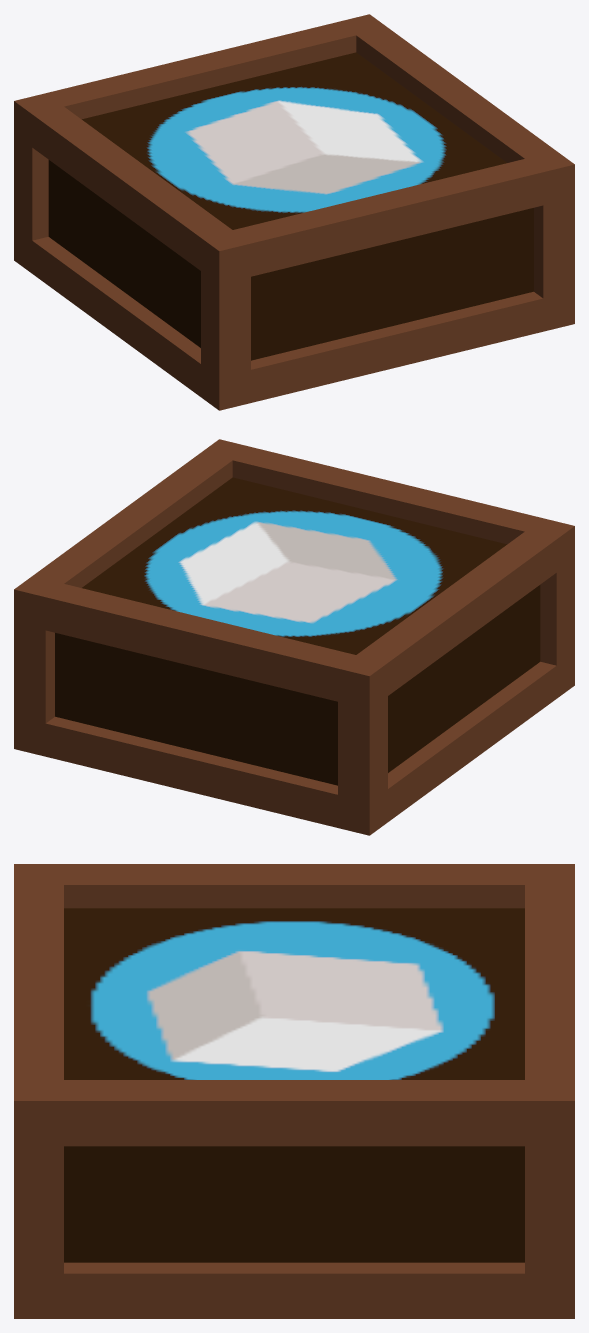
File: CajaAzucar.fbx
The picture shows the model from 3 angles, top to bottom: view 1: azimuth 30°, elevation 25°; view 2: azimuth 150°, elevation 25°; view 3: azimuth 270°, elevation 25°; orthographic projection. The views are drawn at different scales.
Parts seen in each view (by area): view 1: CajaObjetos.004; view 2: CajaObjetos.004; view 3: CajaObjetos.004.
Part boxes in pixels (<box>): CajaObjetos.004: <box>14,14,574,410</box>; CajaObjetos.004: <box>14,439,574,835</box>; CajaObjetos.004: <box>14,864,574,1318</box>.
Size of the model in its own units: 350 by 150 by 350.
3 materials, 2 textured.
